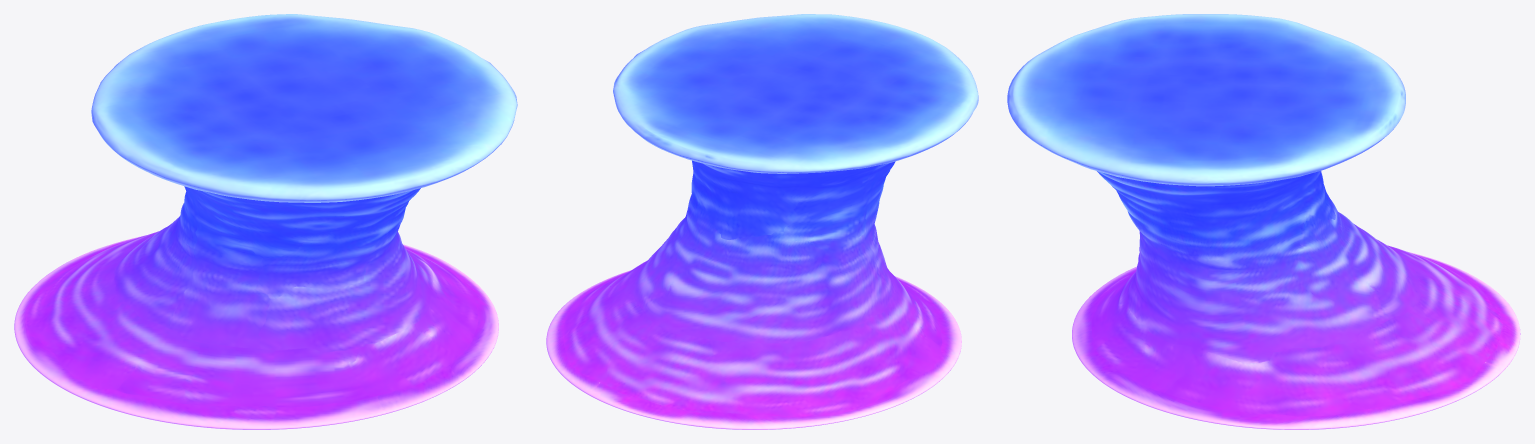
File: MZ4250 - Floating Disk.glb
The picture shows the model from 3 angles, left to right: view 1: azimuth 30°, elevation 25°; view 2: azimuth 150°, elevation 25°; view 3: azimuth 270°, elevation 25°; orthographic projection. The views are drawn at different scales.
Visible parts, largest first — view 1: Medium Creature.001; view 2: Medium Creature.001; view 3: Medium Creature.001.
Boxes of the visible parts, box(x1,y1,x2,y2) form: Medium Creature.001: box(14, 14, 517, 429); Medium Creature.001: box(546, 14, 978, 429); Medium Creature.001: box(1007, 14, 1520, 429).
Bounding box in the file's own units: 0.739 × 0.442 × 0.845.
Materials: 1 (1 with a texture image).
